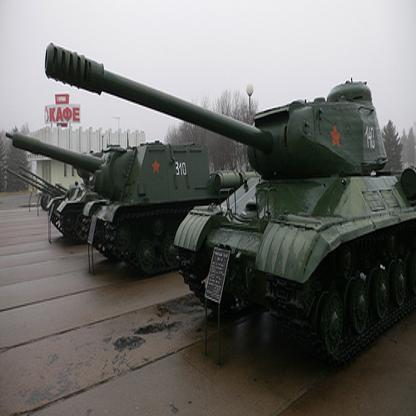Tank: (173, 80, 416, 376), (5, 123, 248, 280)
